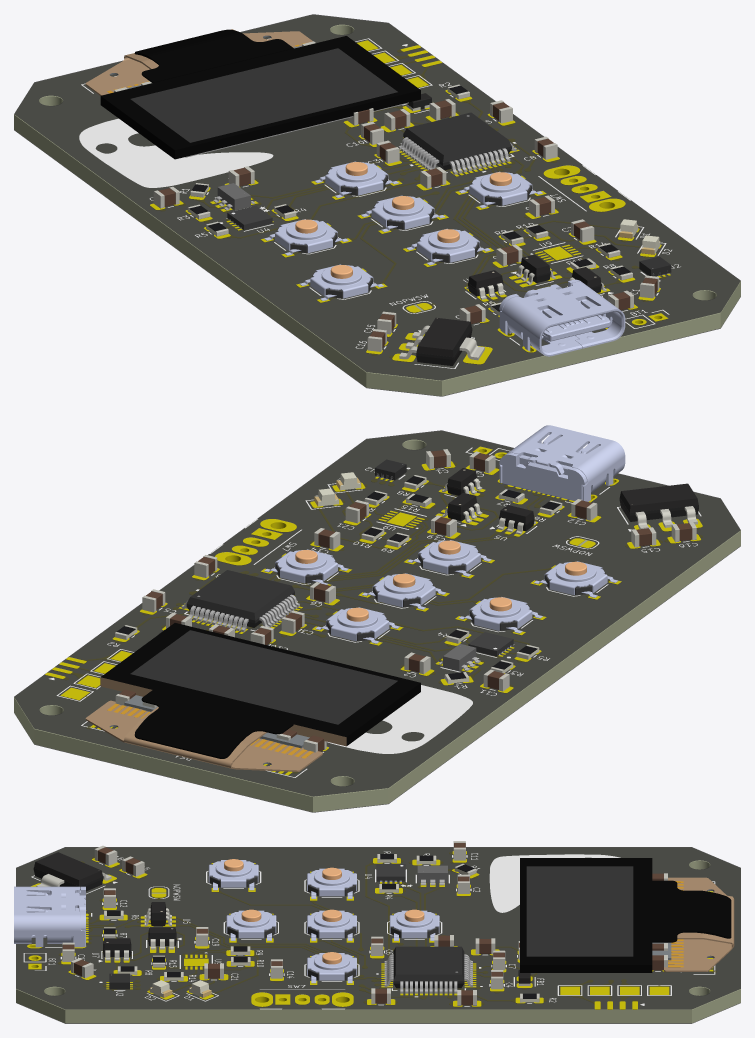
Rendered from STM32 2MB Cold Wallet no switch.glb.
3 renders of one model, top to bottom at view 1: azimuth 30°, elevation 25°; view 2: azimuth 150°, elevation 25°; view 3: azimuth 270°, elevation 25°, orthographic. The views are drawn at different scales.
Parts seen in each view (by area): view 1: =>[0:1:1:30], =>[0:1:1:32], =>[0:1:1:17], =>[0:1:1:13] (×6), =>[0:1:1:28], =>[0:1:1:29], =>[0:1:1:9], =>[0:1:1:3], =>[0:1:1:25], =>[0:1:1:7] (×2), =>[0:1:1:31], =>[0:1:1:19] (+1 smaller); view 2: =>[0:1:1:30], =>[0:1:1:32], =>[0:1:1:17], =>[0:1:1:13] (×6), =>[0:1:1:28], =>[0:1:1:29], =>[0:1:1:9], =>[0:1:1:3], =>[0:1:1:25], =>[0:1:1:7] (×3), =>[0:1:1:31], =>[0:1:1:27] (+1 smaller); view 3: =>[0:1:1:30], =>[0:1:1:32], =>[0:1:1:17], =>[0:1:1:13] (×6), =>[0:1:1:28], =>[0:1:1:29], =>[0:1:1:9], =>[0:1:1:3], =>[0:1:1:5] (×7), =>[0:1:1:25], =>[0:1:1:7] (×3), =>[0:1:1:31] (+3 smaller).
Part boxes in pixels (left/top/right/bottom): =>[0:1:1:30]: left=14, top=14, right=740, bottom=380; =>[0:1:1:32]: left=14, top=15, right=740, bottom=396; =>[0:1:1:17]: left=85, top=29, right=420, bottom=159; =>[0:1:1:13] (×6): left=264, top=161, right=542, bottom=300; =>[0:1:1:28]: left=150, top=40, right=670, bottom=364; =>[0:1:1:29]: left=79, top=38, right=680, bottom=368; =>[0:1:1:9]: left=499, top=279, right=625, bottom=356; =>[0:1:1:3]: left=398, top=112, right=516, bottom=174; =>[0:1:1:25]: left=399, top=317, right=484, bottom=365; =>[0:1:1:7] (×2): left=466, top=254, right=555, bottom=299; =>[0:1:1:31]: left=14, top=130, right=740, bottom=396; =>[0:1:1:19]: left=227, top=206, right=272, bottom=230; =>[0:1:1:30]: left=14, top=430, right=740, bottom=796; =>[0:1:1:32]: left=14, top=431, right=740, bottom=812; =>[0:1:1:17]: left=85, top=623, right=420, bottom=771; =>[0:1:1:13] (×6): left=264, top=540, right=617, bottom=643; =>[0:1:1:28]: left=45, top=446, right=702, bottom=775; =>[0:1:1:29]: left=49, top=447, right=701, bottom=777; =>[0:1:1:9]: left=499, top=425, right=625, bottom=501; =>[0:1:1:3]: left=181, top=570, right=299, bottom=632; =>[0:1:1:25]: left=619, top=483, right=698, bottom=529; =>[0:1:1:7] (×3): left=442, top=468, right=535, bottom=534; =>[0:1:1:31]: left=14, top=546, right=740, bottom=812; =>[0:1:1:27]: left=438, top=644, right=480, bottom=671; =>[0:1:1:30]: left=16, top=847, right=740, bottom=1009; =>[0:1:1:32]: left=16, top=848, right=740, bottom=1023; =>[0:1:1:17]: left=520, top=858, right=734, bottom=972; =>[0:1:1:13] (×6): left=208, top=859, right=439, bottom=983; =>[0:1:1:28]: left=27, top=851, right=716, bottom=1009; =>[0:1:1:29]: left=23, top=851, right=715, bottom=1009; =>[0:1:1:9]: left=14, top=886, right=85, bottom=947; =>[0:1:1:3]: left=384, top=946, right=472, bottom=993; =>[0:1:1:5] (×7): left=71, top=845, right=495, bottom=1005; =>[0:1:1:25]: left=33, top=852, right=111, bottom=891; =>[0:1:1:7] (×3): left=103, top=902, right=176, bottom=960; =>[0:1:1:31]: left=16, top=1003, right=740, bottom=1023.
Size of the model in its own units: 0.0391 by 0.00464 by 0.074.
